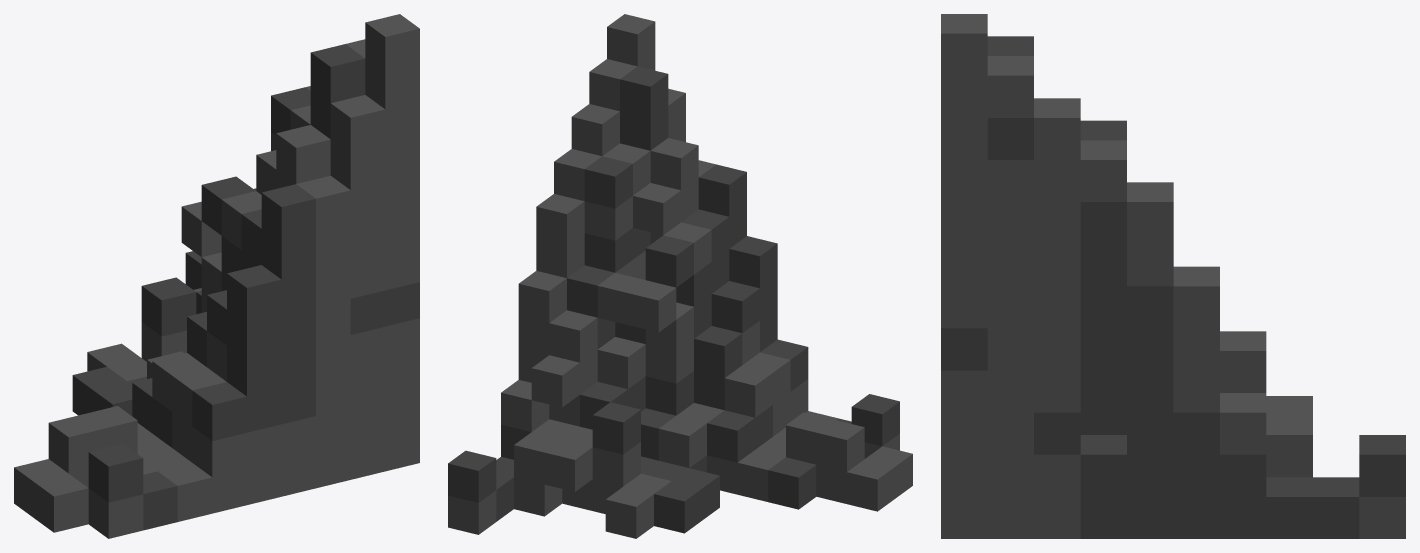
Rendered from Stein_Ecke-0.4.obj.
3 views of the same model, side by side, from view 1: azimuth 30°, elevation 25°; view 2: azimuth 150°, elevation 25°; view 3: azimuth 270°, elevation 25° (orthographic). The views are drawn at different scales.
Size of the model in its own units: 1 by 1.2 by 1.
1 material, 1 textured.
